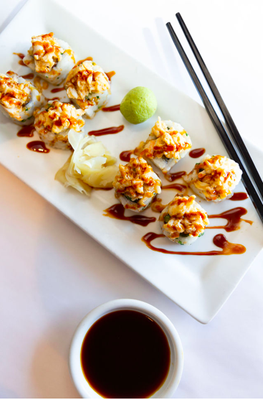pizza: (68, 298, 185, 398)
